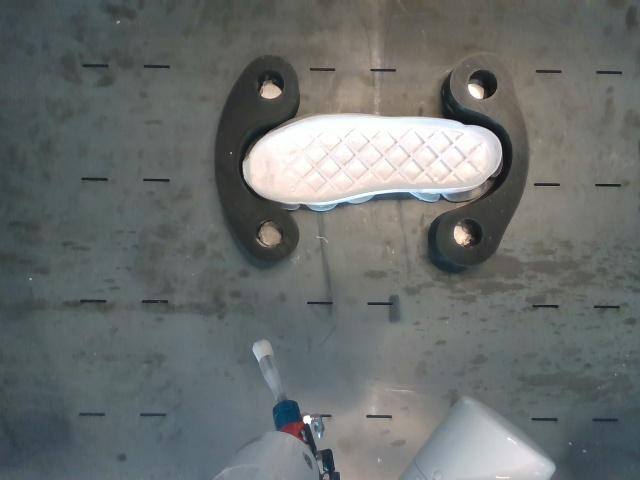shoes: (243, 117, 501, 202)
